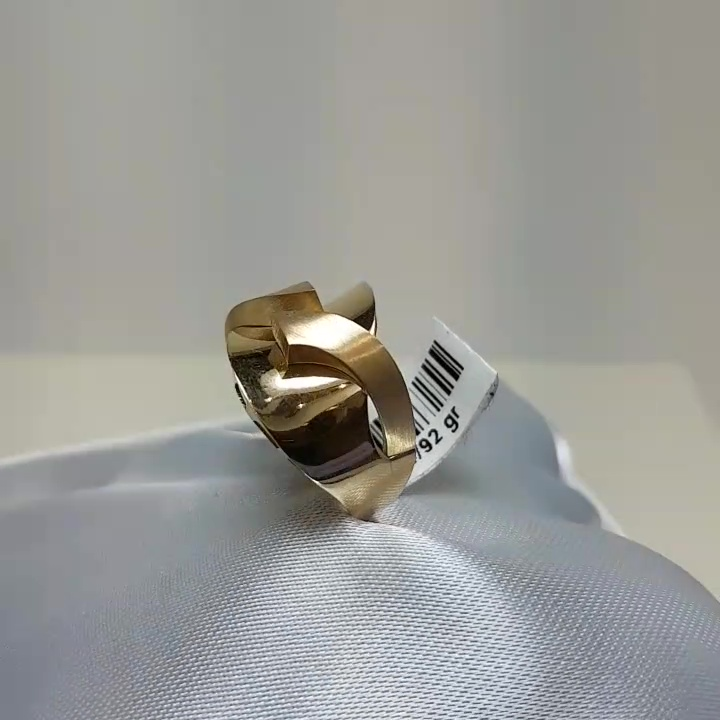Ring 4: (215, 274, 431, 532)
